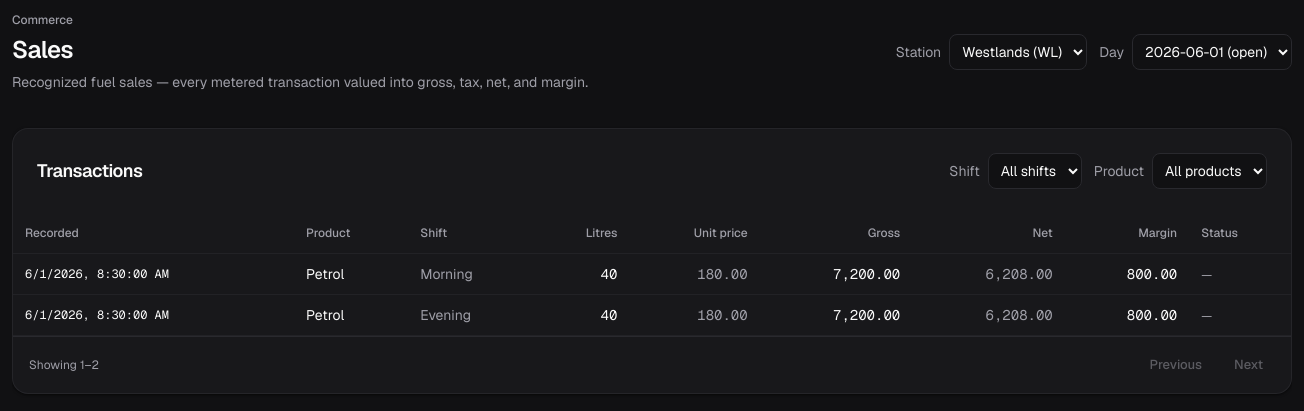
Scenario: SalesPage › filters the loaded page by shift
Expected: the number of buttons named "sale sale-" is 2, 13,253 -> 1291,294; 13,294 -> 1291,335
# Narrow to the evening shift — only that row survives.
Select "Evening" in the dropdown named "Shift filter" at (1035,171), box 988,153 -> 1082,189
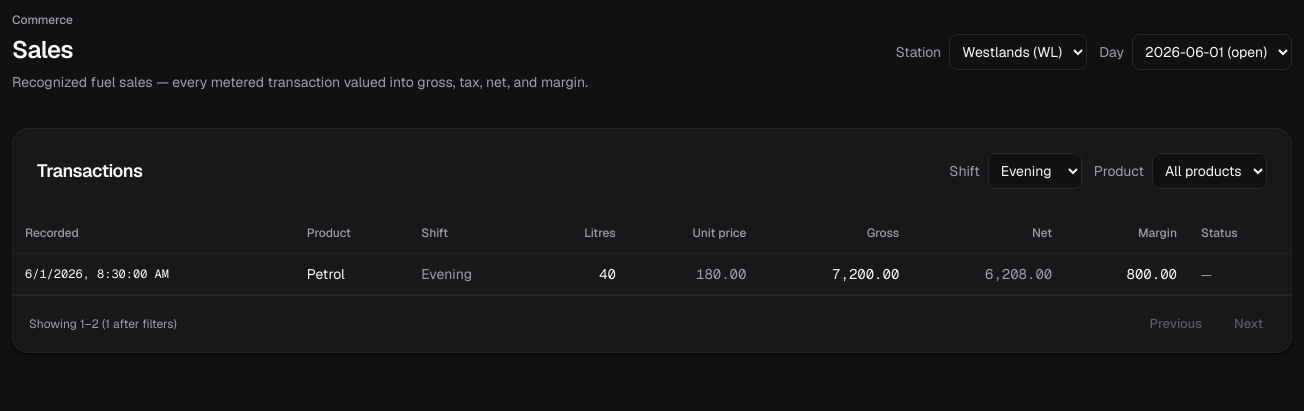
Expected: the text "Evening" is shown, 409,253 -> 535,294
Expected: the number of buttons named "sale sale-" is 1, 13,253 -> 1291,294
Expected: the button "Morning" is gone
